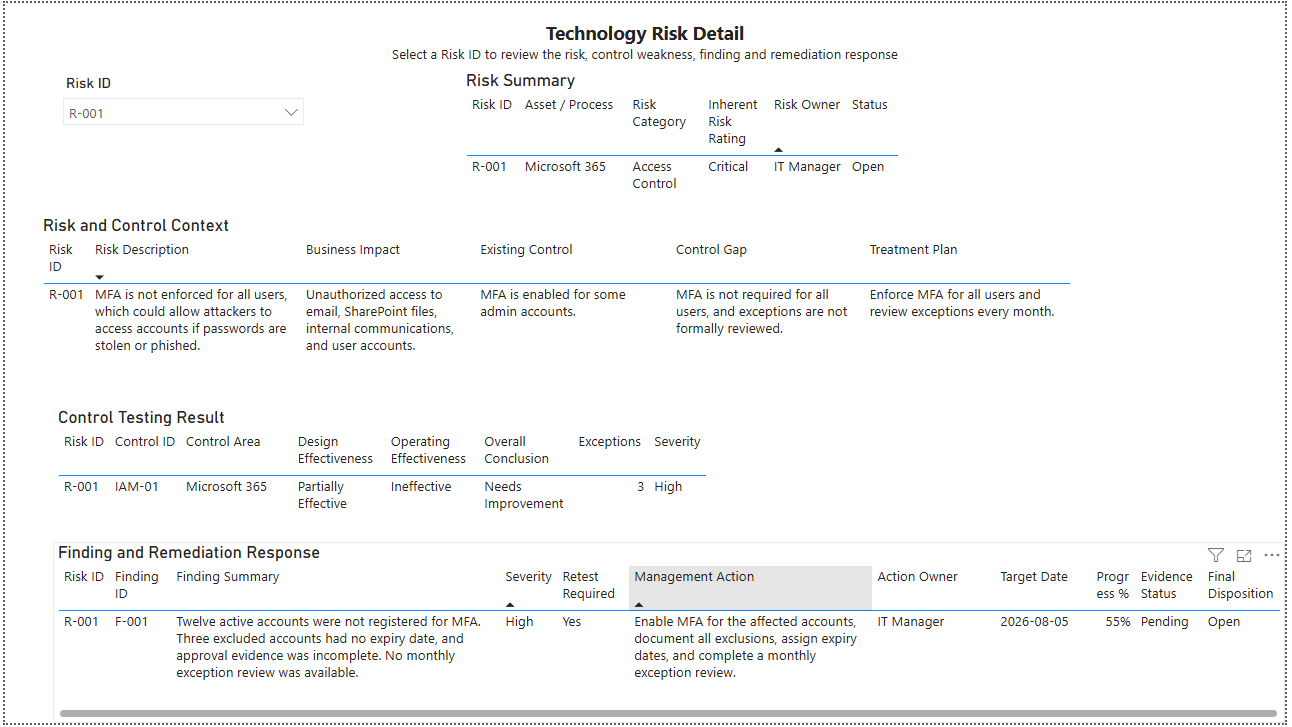

Layout of this report page (visuals, bound fields, positions):
{"tool":"powerbi","page":{"name":"Risk Detail","canvas":[1280,720],"ordinal":3},"visuals":[{"type":"textbox","box":[338.5,11.7,603,55.4],"z":0},{"type":"slicer","fields":{"Values":["Risks.Risk ID"]},"box":[47.7,67.1,261.6,77.8],"z":1000},{"type":"tableEx","title":"Risk Summary","fields":{"Values":["Risks.Risk ID","Risks.Asset / Process","Risks.Risk Category","Risks.Inherent Risk Rating","Risks.Risk Owner","Risks.Status"]},"box":[456.2,67.1,547.6,155.6],"z":2000},{"type":"tableEx","title":"Risk and Control Context","fields":{"Values":["Risks.Risk ID","Risks.Risk Description","Risks.Business Impact","Risks.Existing Control","Risks.Control Gap","Risks.Treatment Plan"]},"box":[33.1,212,1136,179.9],"z":3000},{"type":"tableEx","title":"Control Testing Result","fields":{"Values":["Risks.Risk ID","Controls.Control ID","Controls.Control Area","Controls.Design Effectiveness","Controls.Operating Effectiveness","Controls.Overall Conclusion","Controls.Exceptions","Controls.Severity"]},"box":[47.7,403.6,693.5,124.5],"z":3001},{"type":"tableEx","title":"Finding and Remediation Response","fields":{"Values":["Findings.Risk ID","Findings.Finding ID","Findings.Finding Summary","Findings.Severity","Findings.Retest Required","Remediation.Management Action","Remediation.Action Owner","Remediation.Target Date","Remediation.Progress %","Remediation.Evidence Status","Remediation.Final Disposition"]},"box":[47.7,538.8,1232.3,180.9],"z":3002}]}

Visuals, with their boxes in screenshot pixels (x1, y1, x2, y2), scaled from the page's 1280x720 canvas onto the 1292x727 screenshot:
textbox: <region>342, 12, 950, 68</region>
slicer - Risks.Risk ID: <region>48, 68, 312, 146</region>
"Risk Summary" tableEx: <region>460, 68, 1013, 225</region>
"Risk and Control Context" tableEx: <region>33, 214, 1180, 396</region>
"Control Testing Result" tableEx: <region>48, 408, 748, 533</region>
"Finding and Remediation Response" tableEx: <region>48, 544, 1291, 726</region>
